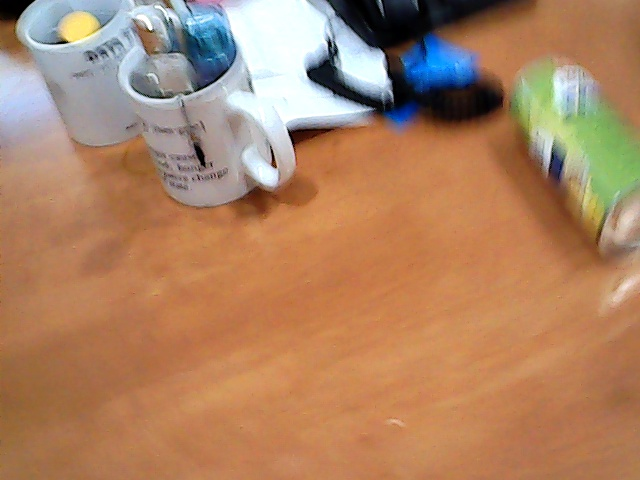Pine Juice: (489, 45, 640, 264)
